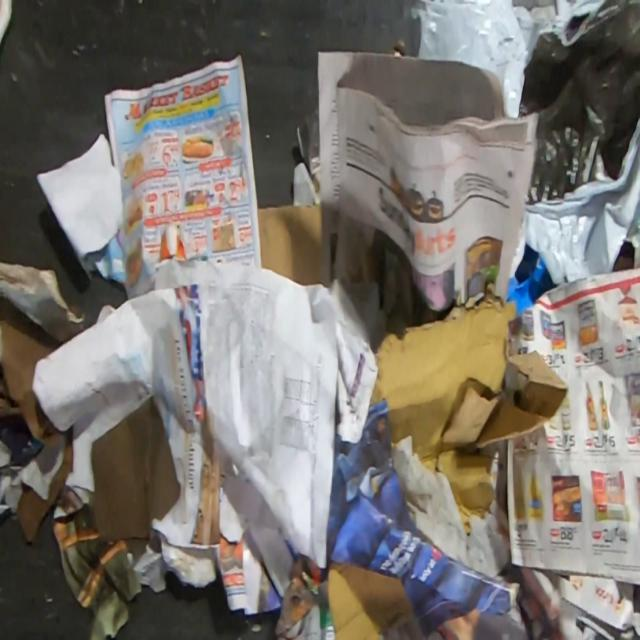cardboard: (369, 280, 572, 536), (325, 560, 416, 639), (257, 204, 324, 286)
soft_plastic: (409, 0, 640, 319)
